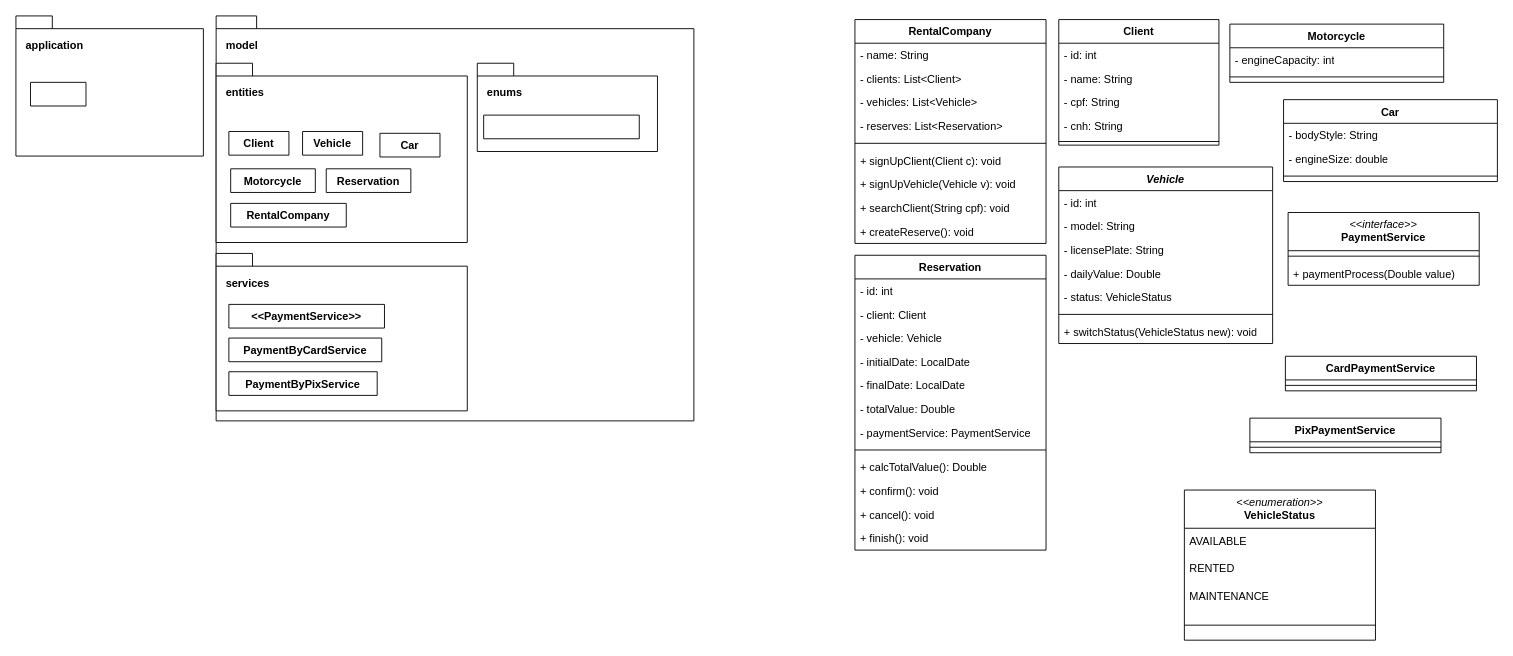
Some shapes in this 1513 by 656 pixel diagram are drawn without their labels. Here are the shapes that lost their labels. From the top down, the centre of each, then its label:
the point at 58,93: application.Main
the point at 561,126: <<VehicleStatus>>
